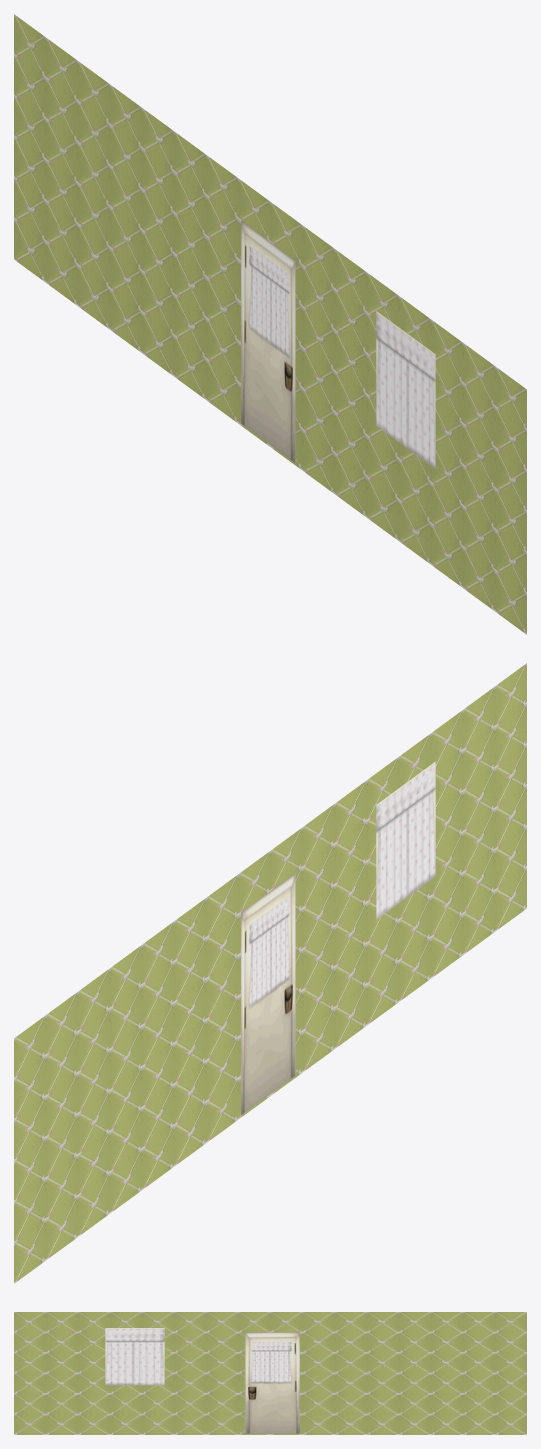
File: KitchWall.glb
3 views of the same model, one above another, from view 1: azimuth 30°, elevation 25°; view 2: azimuth 150°, elevation 25°; view 3: azimuth 270°, elevation 25° (orthographic). The views are drawn at different scales.
Visible parts, largest first — view 1: KitchWall; view 2: KitchWall; view 3: KitchWall.
Boxes of the visible parts, x1,y1,x2,y2 form: KitchWall: (14, 14, 526, 634); KitchWall: (14, 663, 526, 1283); KitchWall: (14, 1312, 526, 1434).
Size of the model in its own units: 0 by 633 by 2399.
Materials: 2 (2 with a texture image).
